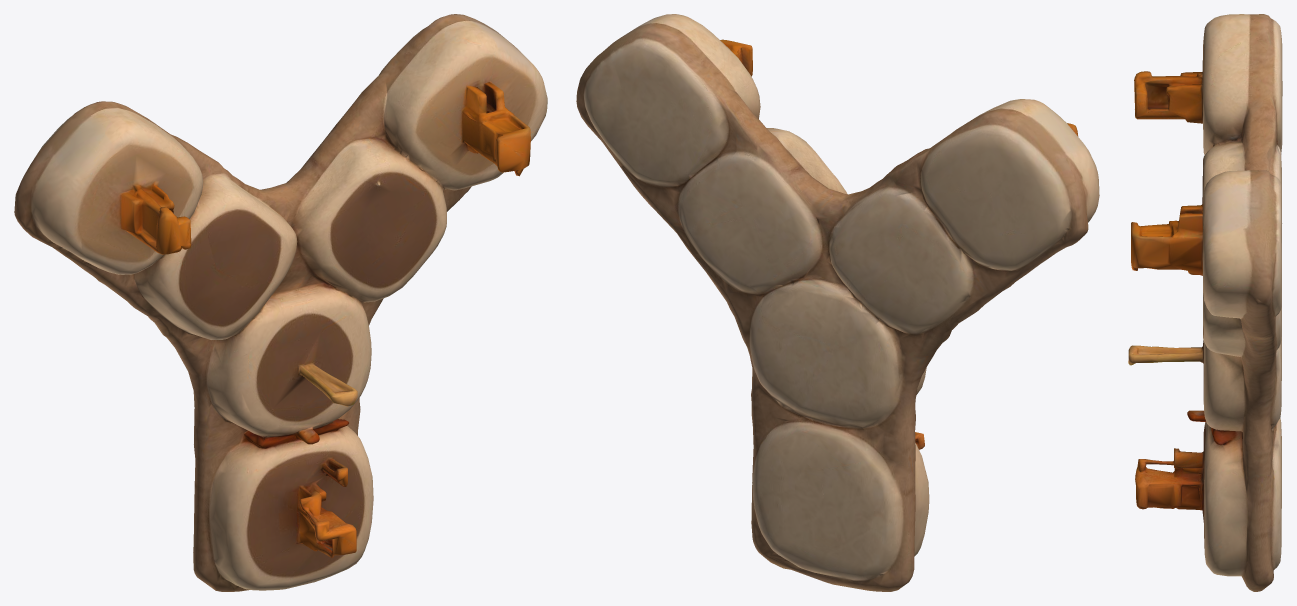
Rendered from road-y-junction.glb.
The picture shows the model from 3 angles, left to right: view 1: azimuth 30°, elevation 25°; view 2: azimuth 150°, elevation 25°; view 3: azimuth 270°, elevation 25°; orthographic projection. The views are drawn at different scales.
Visible parts, largest first — view 1: Mesh_0; view 2: Mesh_0; view 3: Mesh_0.
Part boxes in pixels (box(x1,y1,x2,y2)): Mesh_0: box(14, 14, 547, 591); Mesh_0: box(576, 14, 1099, 591); Mesh_0: box(1128, 14, 1282, 591).
Bounding box in the file's own units: 2 × 1.93 × 0.57.
Materials: 1 (1 with a texture image).
